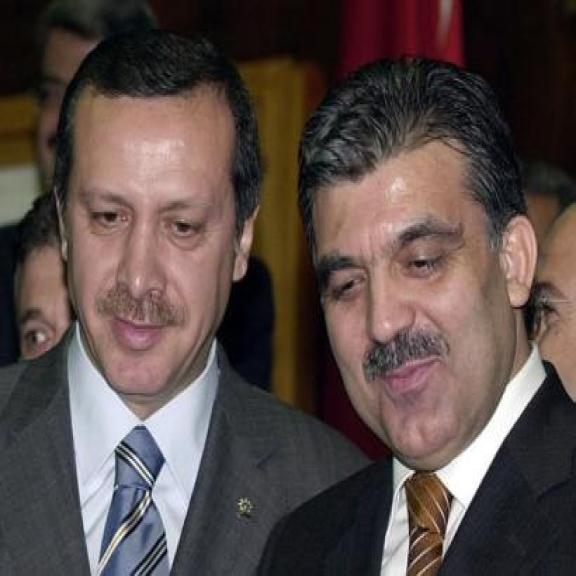face: (309, 160, 540, 467), (48, 92, 264, 407)
